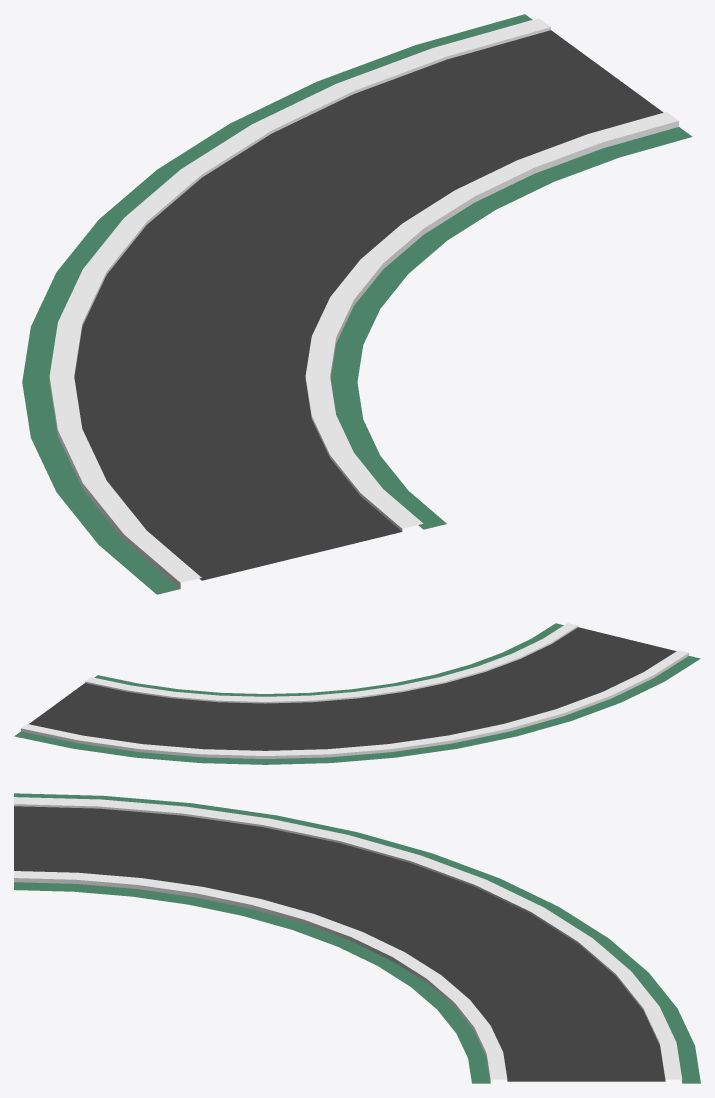
File: roadCornerLarger.glb
3 views of the same model, one above another, from view 1: azimuth 30°, elevation 25°; view 2: azimuth 150°, elevation 25°; view 3: azimuth 270°, elevation 25° (orthographic). The views are drawn at different scales.
Parts seen in each view (by area): view 1: roadCornerLarger(Clone); view 2: roadCornerLarger(Clone); view 3: roadCornerLarger(Clone).
Boxes of the visible parts, x1,y1,x2,y2 form: roadCornerLarger(Clone): [22, 14, 692, 594]; roadCornerLarger(Clone): [14, 623, 700, 764]; roadCornerLarger(Clone): [14, 793, 700, 1083].
Size of the model in its own units: 3 by 0.02 by 3.
